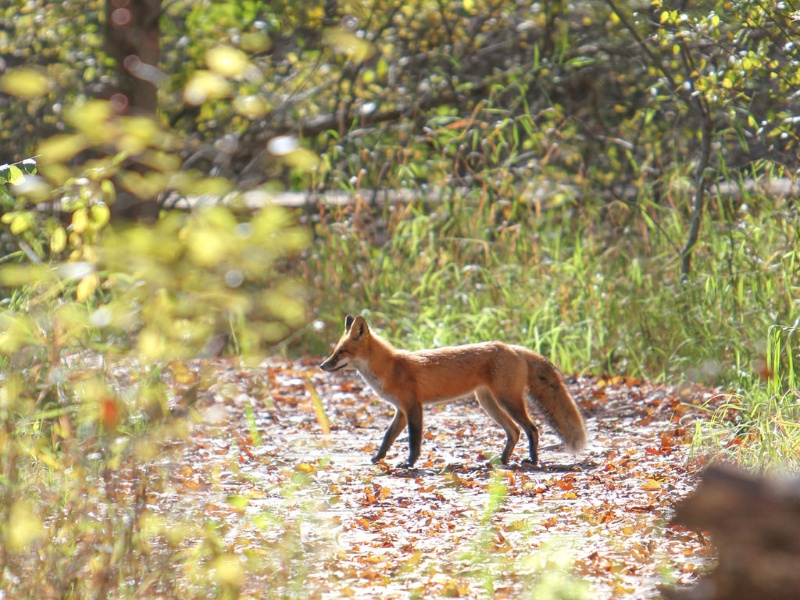fox: (316, 313, 586, 472)
